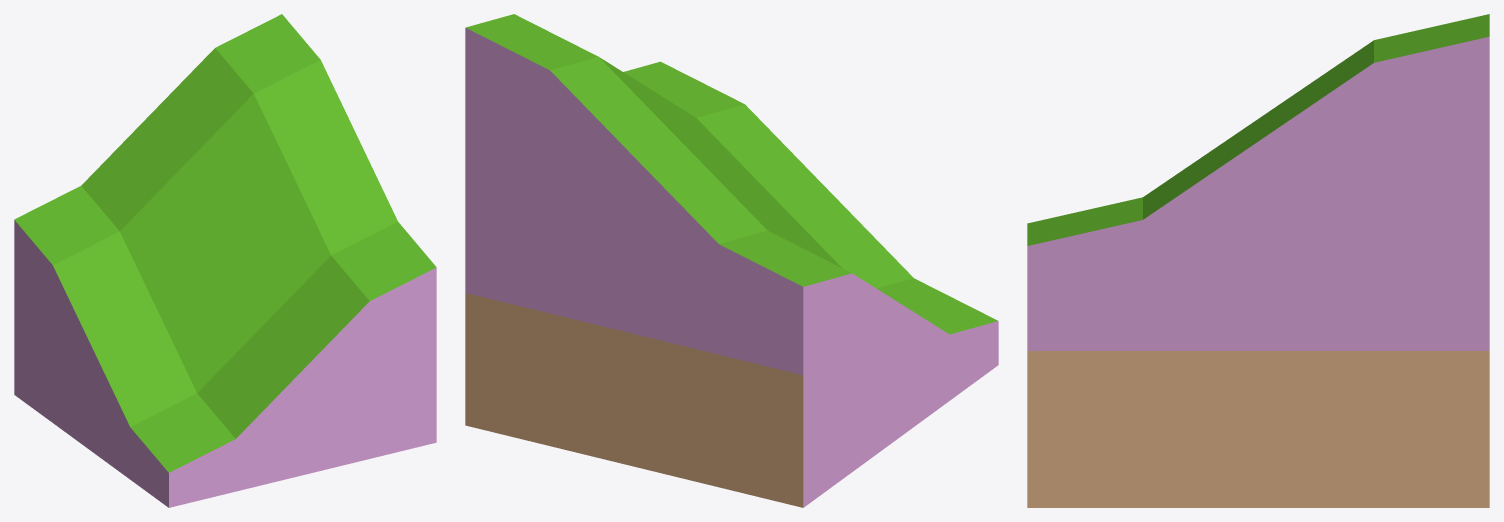
File: Grass_Hill_Sharp_Overlapping_Sharp_2x2.glb
The picture shows the model from 3 angles, left to right: view 1: azimuth 30°, elevation 25°; view 2: azimuth 150°, elevation 25°; view 3: azimuth 270°, elevation 25°; orthographic projection. The views are drawn at different scales.
Parts seen in each view (by area): view 1: Grass_Hill_Sharp_Overlapping_Sharp_2x2; view 2: Grass_Hill_Sharp_Overlapping_Sharp_2x2; view 3: Grass_Hill_Sharp_Overlapping_Sharp_2x2.
Part boxes in pixels (x1,y1,x2,y2): Grass_Hill_Sharp_Overlapping_Sharp_2x2: [14, 14, 436, 507]; Grass_Hill_Sharp_Overlapping_Sharp_2x2: [465, 14, 998, 507]; Grass_Hill_Sharp_Overlapping_Sharp_2x2: [1027, 14, 1489, 507].
Size of the model in its own units: 200 by 225 by 200.
